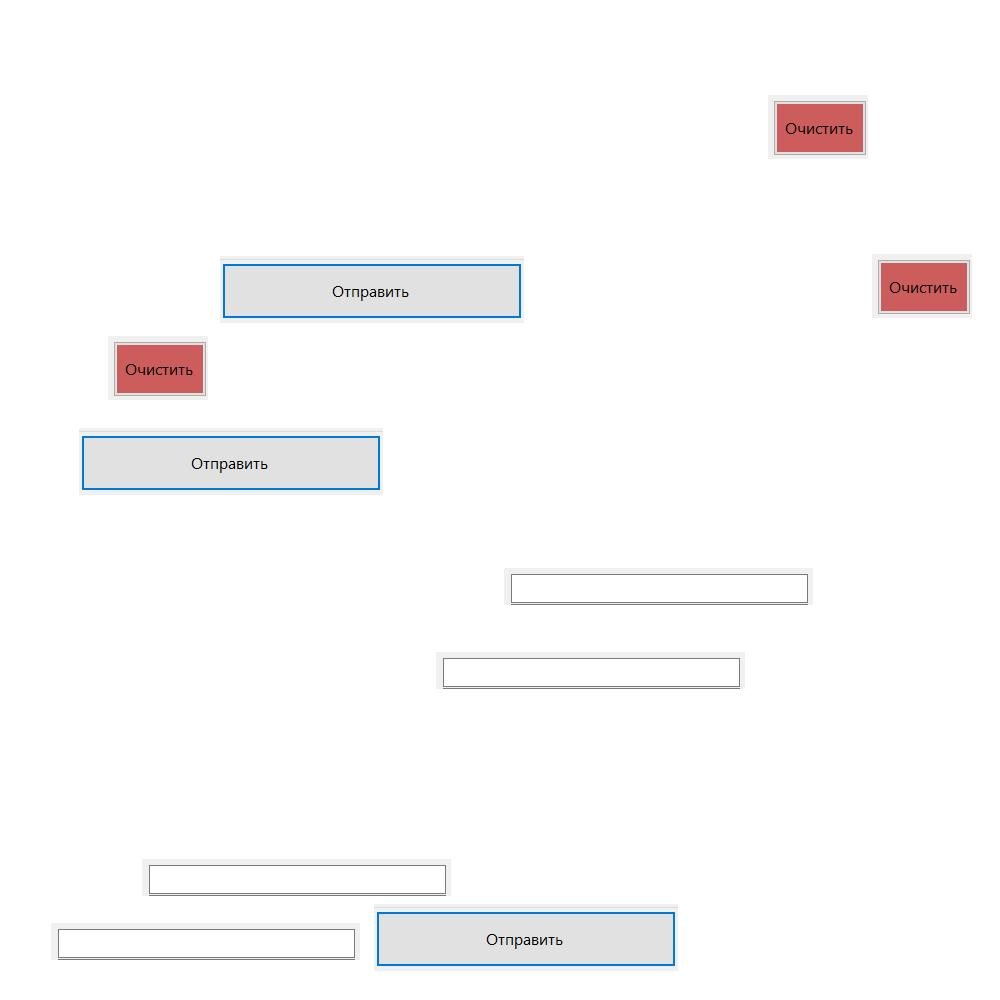Button: (374, 904, 678, 971), (220, 256, 524, 323), (79, 428, 383, 495), (768, 95, 868, 159), (872, 254, 972, 318), (108, 336, 208, 400)
EditText-: (142, 859, 451, 896), (51, 923, 360, 960), (436, 652, 745, 689), (504, 568, 813, 605)
